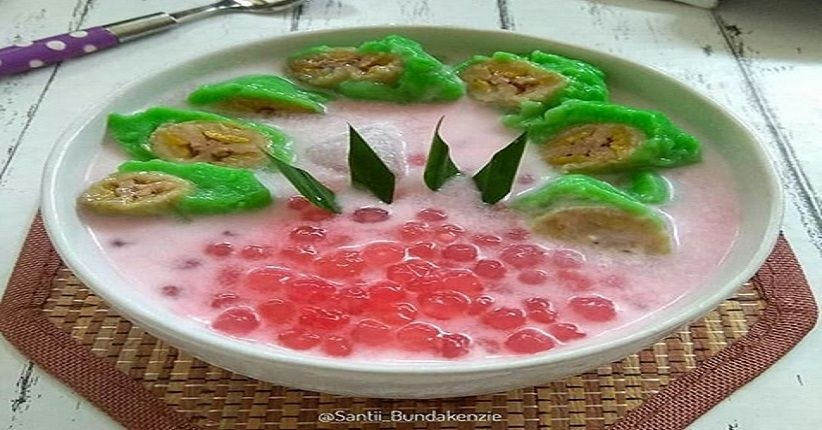es_pisang_ijo: (88, 38, 740, 360)
